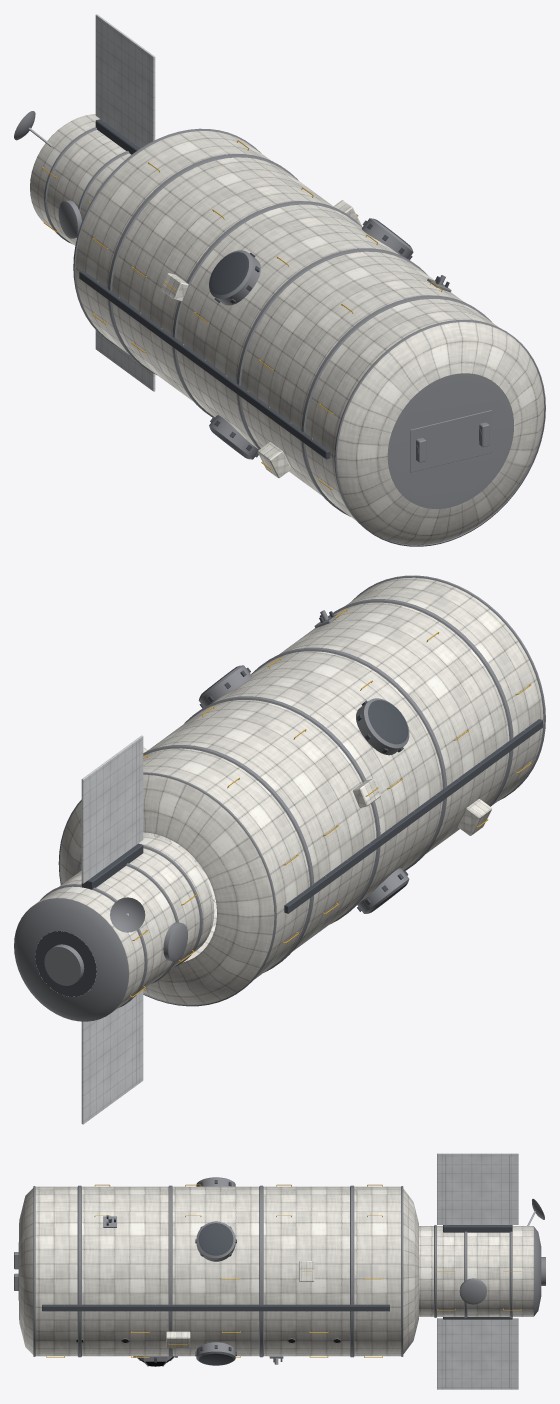
The model's file is station_hub.obj.
3 views of the same model, one above another, from view 1: azimuth 30°, elevation 25°; view 2: azimuth 150°, elevation 25°; view 3: azimuth 270°, elevation 25° (orthographic). The views are drawn at different scales.
Visible parts, largest first — view 1: station_hub; view 2: station_hub; view 3: station_hub.
Boxes of the visible parts, x1,y1,x2,y2 form: station_hub: (14,14,545,546); station_hub: (14,575,545,1124); station_hub: (14,1153,545,1389).
Size of the model in its own units: 12.02 by 17.2 by 35.15.
8 materials, 2 textured.
